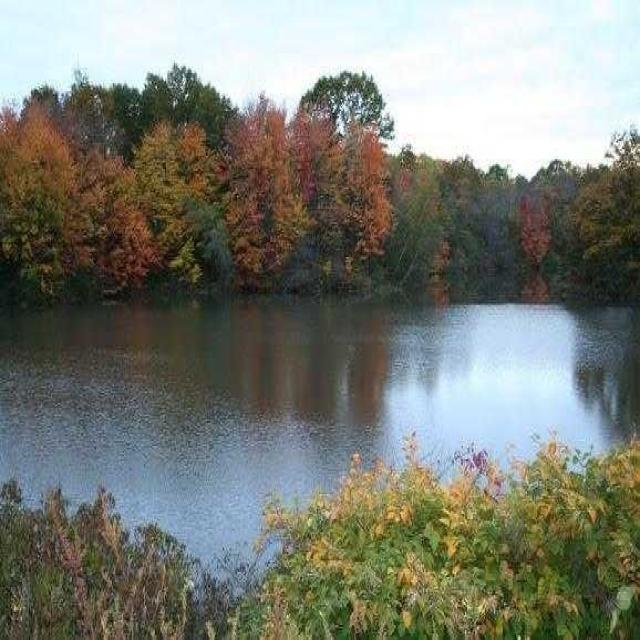Ponds: (3, 293, 635, 596)
